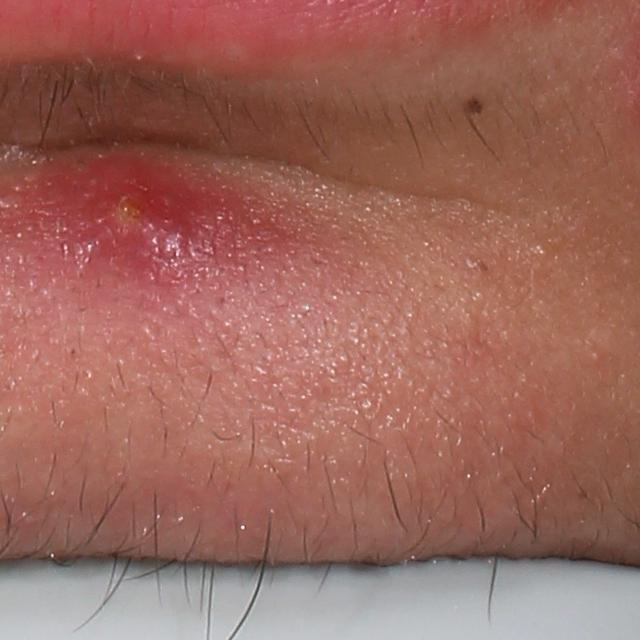nevus: (463, 92, 490, 120)
